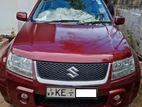car: (1, 0, 141, 106)
